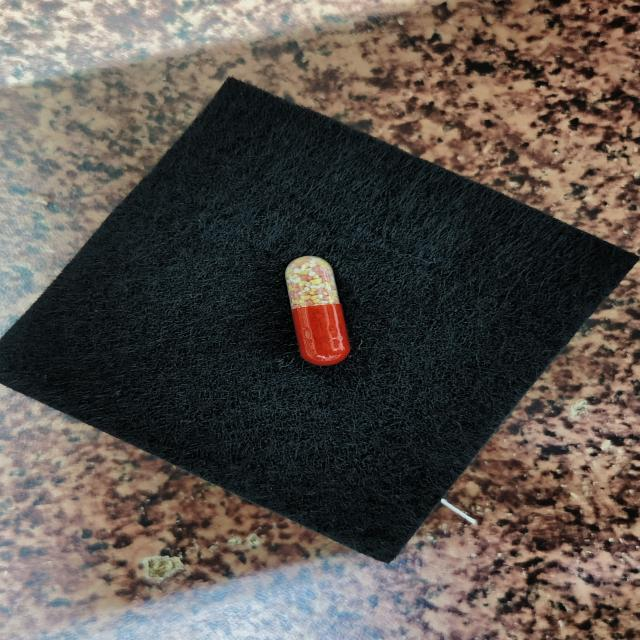Intact Capsule: (285, 256, 350, 366)
